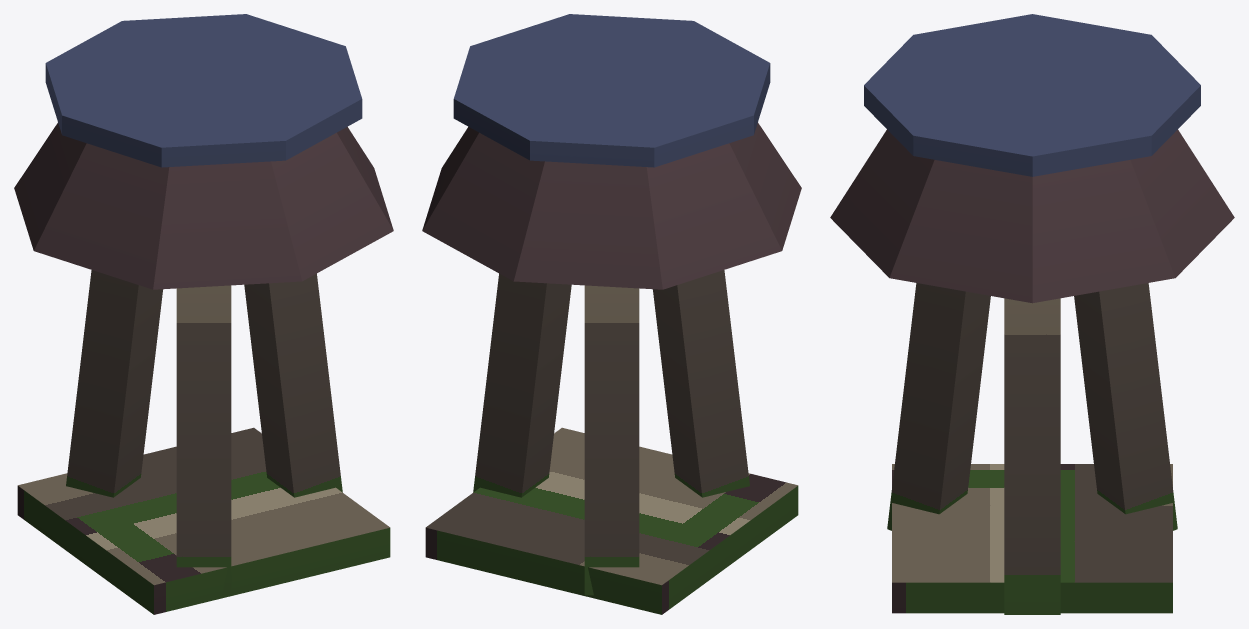
Rendered from brazier.glb.
3 renders of one model, left to right at view 1: azimuth 30°, elevation 25°; view 2: azimuth 150°, elevation 25°; view 3: azimuth 270°, elevation 25°, orthographic. The views are drawn at different scales.
Parts seen in each view (by area): view 1: brazier; view 2: brazier; view 3: brazier.
Boxes of the visible parts, left/top/right/bottom form: brazier: left=14, top=14, right=393, bottom=614; brazier: left=422, top=14, right=801, bottom=614; brazier: left=830, top=14, right=1234, bottom=614.
Size of the model in its own units: 0.72 by 0.926 by 0.72.
Materials: 2 (1 with a texture image).
